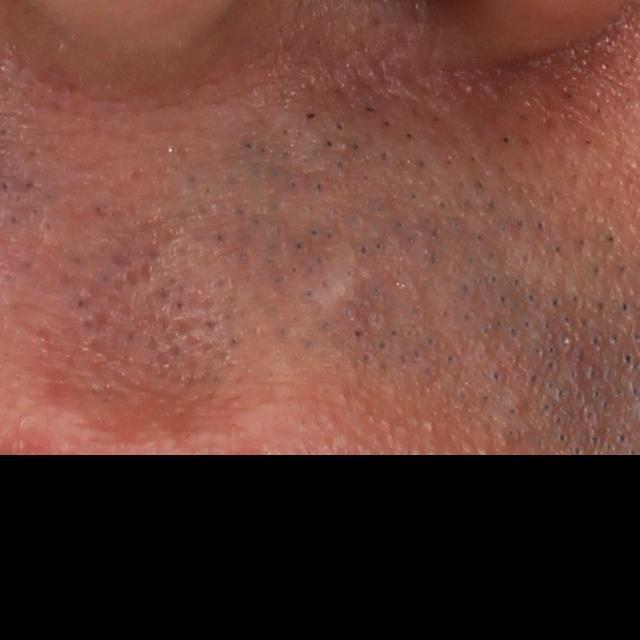hypertrophic_scar: (287, 247, 365, 346)
